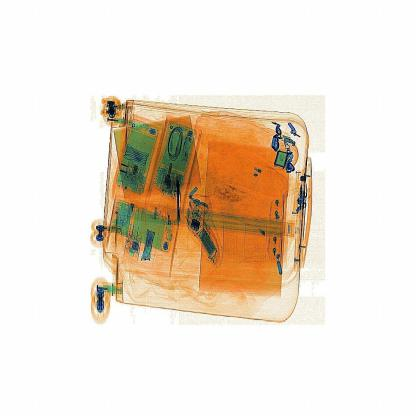knife: (168, 175, 193, 232)
